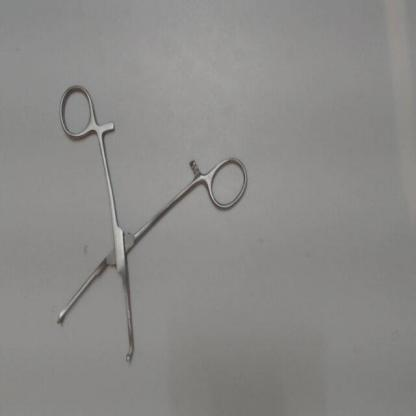Allis Tissue Forceps: (47, 75, 256, 375)
